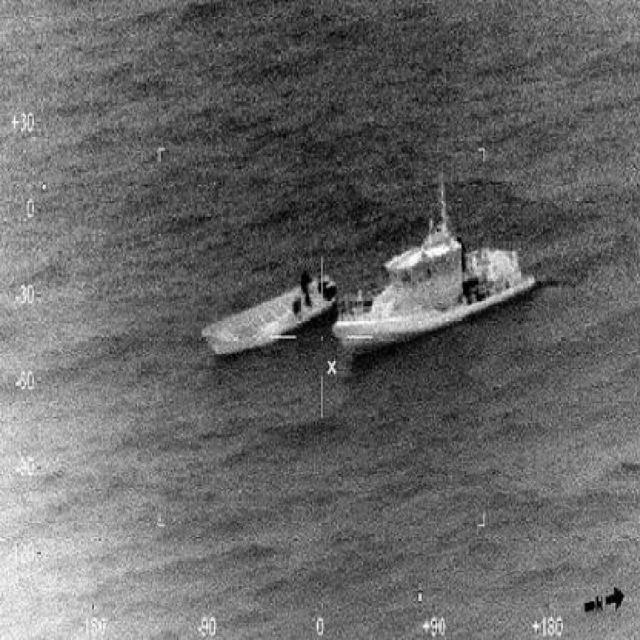ship: (330, 218, 536, 368), (192, 262, 334, 361)
